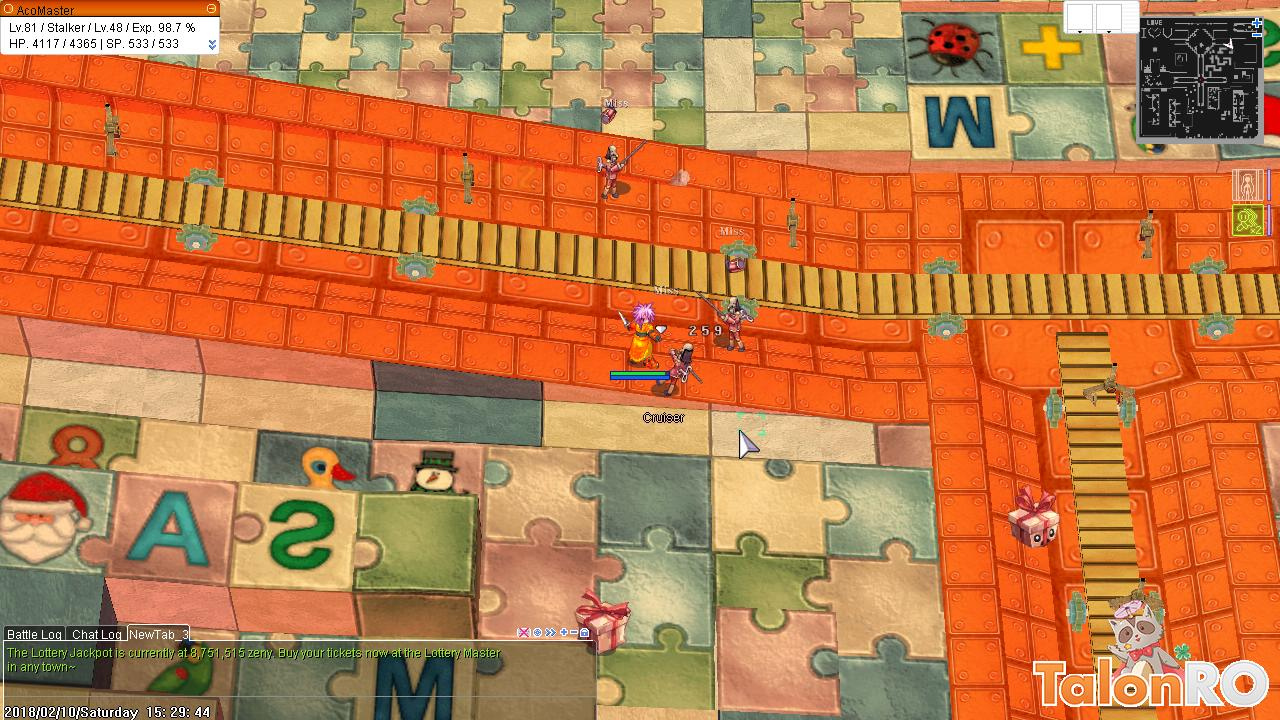mob: (596, 106, 648, 204), (712, 257, 759, 357), (654, 339, 702, 408)
myst_case: (1000, 481, 1066, 556), (569, 588, 632, 657)
